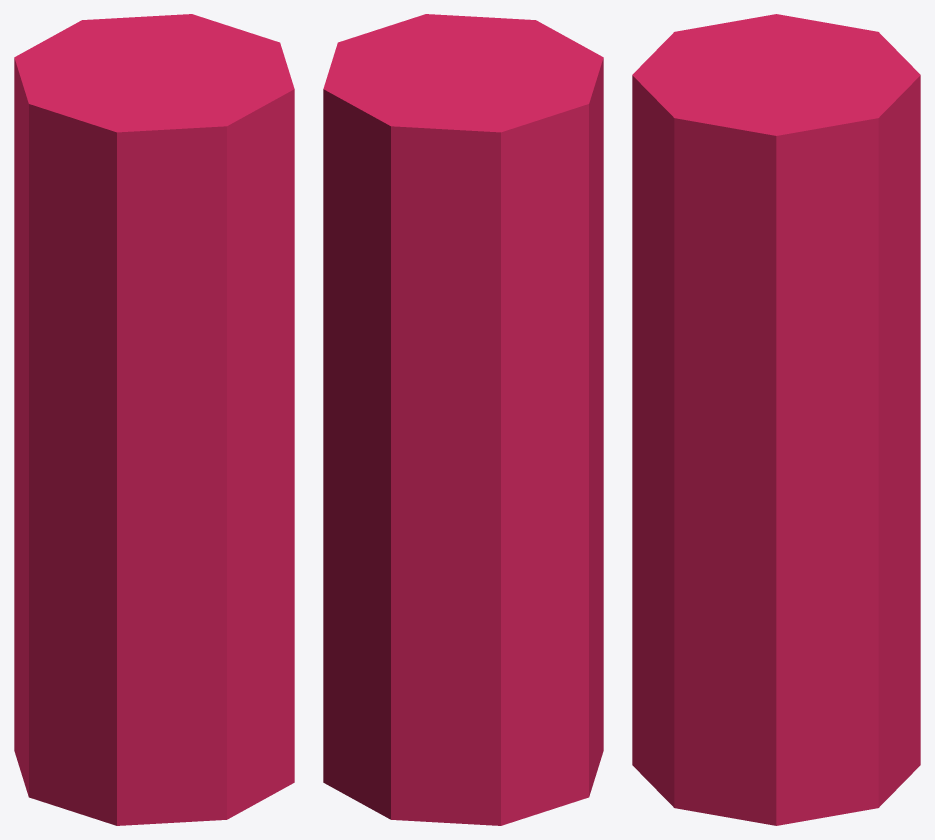
Rendered from testmodel.glb.
The picture shows the model from 3 angles, left to right: view 1: azimuth 30°, elevation 25°; view 2: azimuth 150°, elevation 25°; view 3: azimuth 270°, elevation 25°; orthographic projection.
Visible parts, largest first — view 1: Cylinder; view 2: Cylinder; view 3: Cylinder.
Part boxes in pixels (bbox=[...]): Cylinder: bbox=[14, 14, 294, 825]; Cylinder: bbox=[323, 14, 603, 825]; Cylinder: bbox=[632, 14, 920, 825].
Bounding box in the file's own units: 2 × 5.27 × 2.
